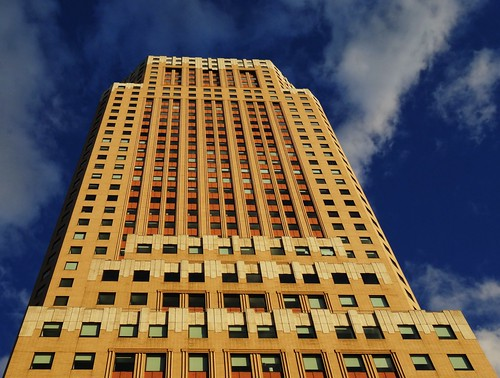high: (9, 46, 496, 377)
